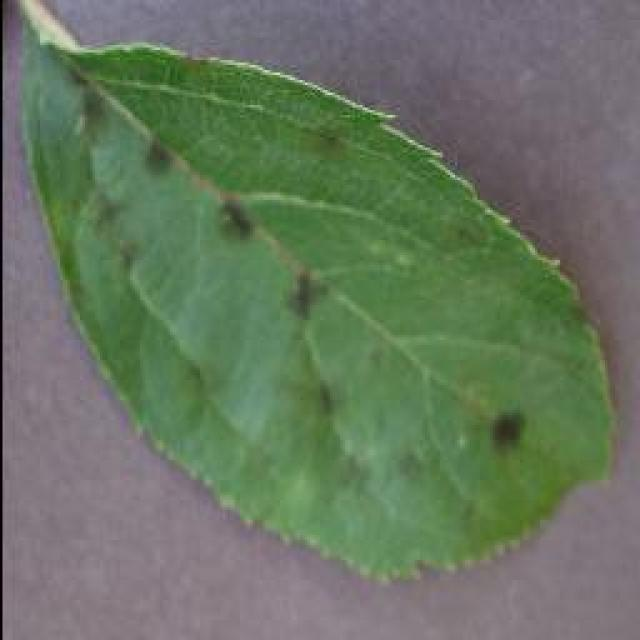apple scab disease: (12, 0, 620, 585)
